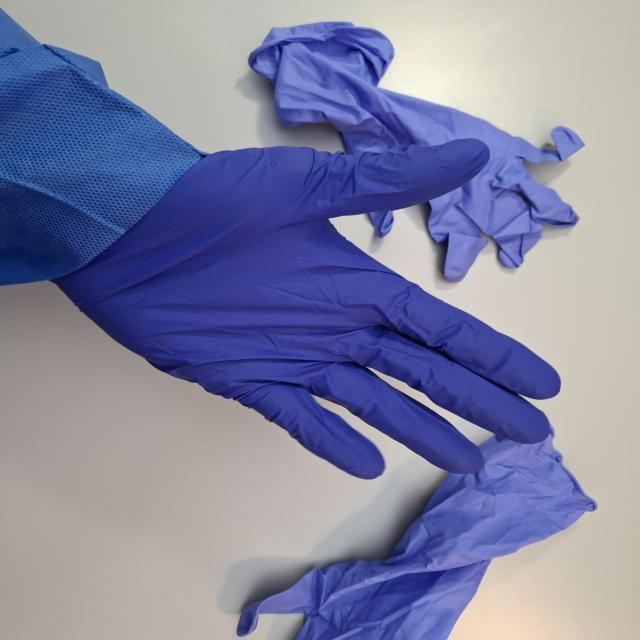glove_on: (45, 137, 565, 482)
